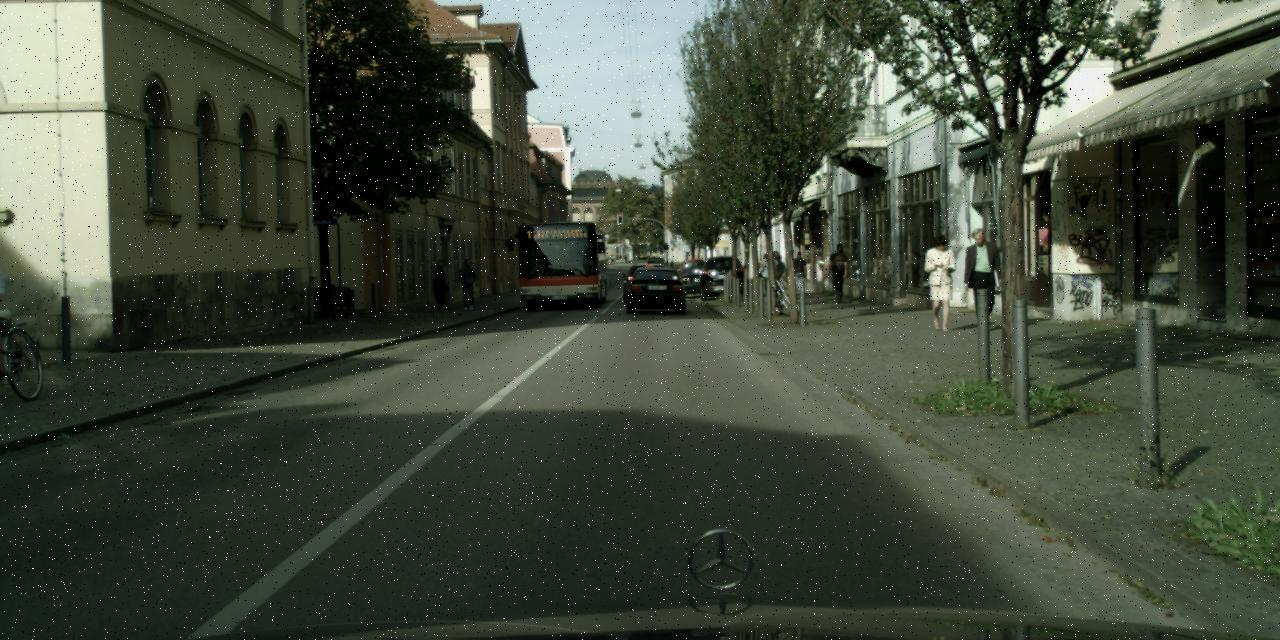ped: (960, 226, 1001, 330), (921, 233, 960, 329), (828, 243, 851, 301), (766, 251, 786, 303), (458, 258, 478, 310), (430, 259, 450, 311), (761, 250, 780, 296), (790, 250, 807, 294)
